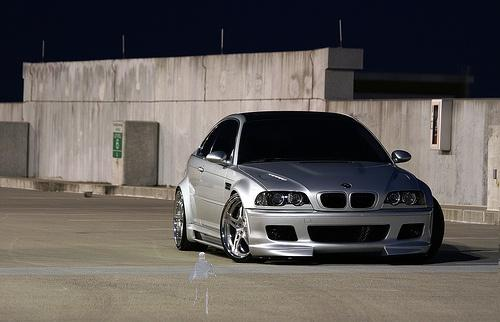tampered: (190, 253, 216, 314)
